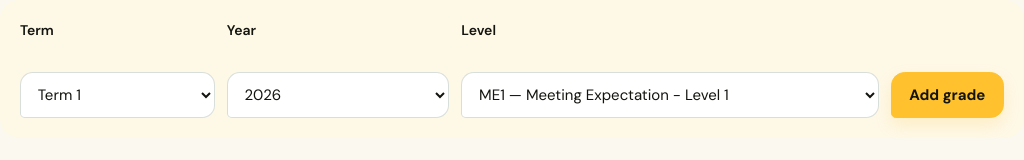
Test case: flagged My Progress dashboard › uses the term-specific grade-saved toast after a successful save
The width and height of the screenshot is (1024, 160).
Select "Term 2" in the dropdown labelled "Term": (117, 95) [20,72,215,118]
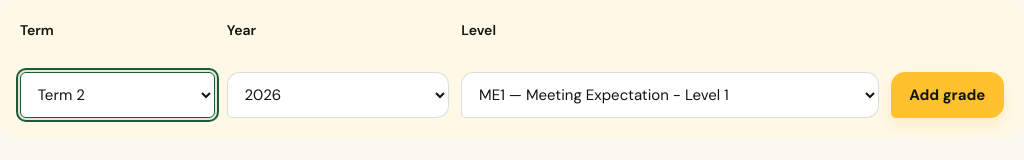
Click the button "Add grade": (947, 95) [891,72,1004,118]
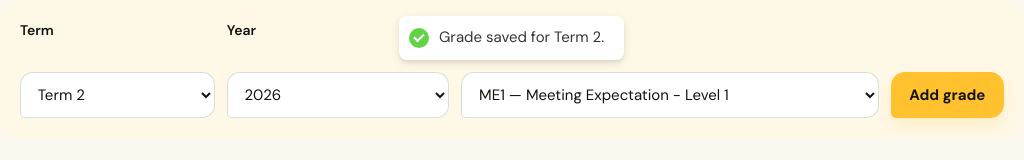
Now the text "Grade saved for Term 2." is shown, box [439,28,605,48]
